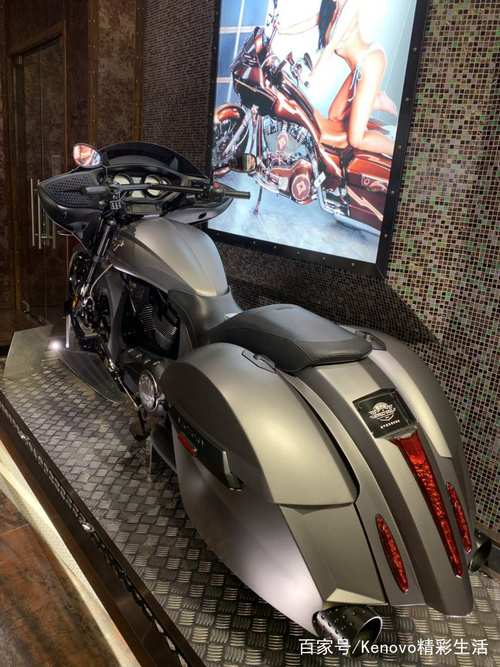摩托车: (34, 132, 485, 639)
